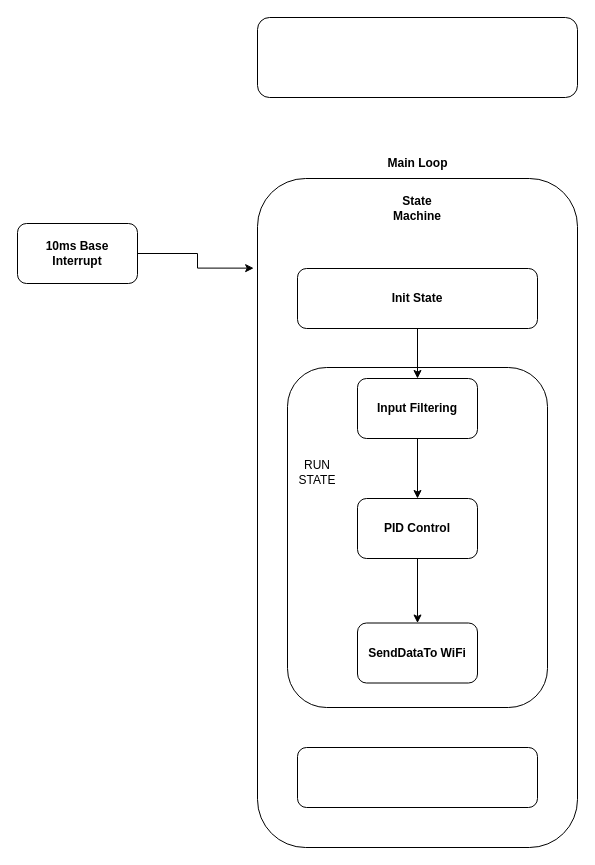
Some shapes in this 595 by 865 pixel diagram are drawn without their labels. Each missing label, with the centre of its shape:
"Main Init" belongs at (417,57).
"Pause/STOP State" belongs at (417,777).
